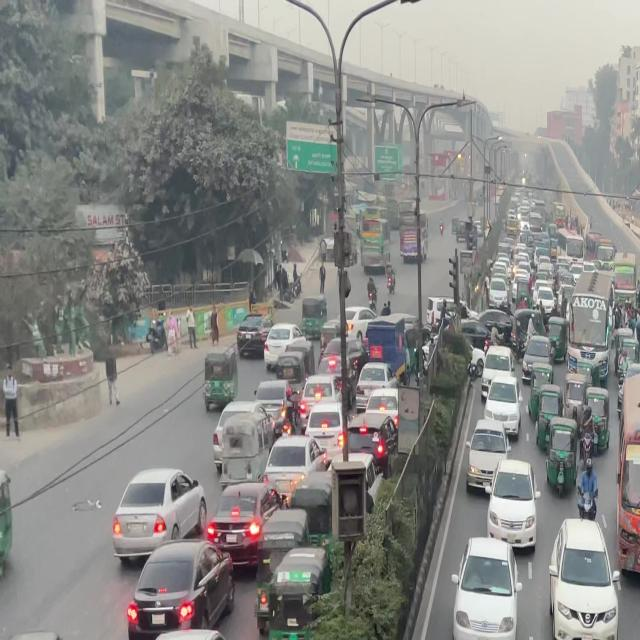bus: (611, 387, 640, 583), (570, 295, 615, 367), (202, 345, 238, 415)
car: (127, 543, 232, 640), (109, 466, 208, 564), (549, 517, 623, 640), (451, 539, 521, 640), (484, 466, 539, 551), (481, 368, 528, 457), (466, 428, 511, 492), (118, 627, 244, 640), (238, 326, 270, 358)
rickshaw: (260, 515, 331, 640), (540, 415, 578, 508), (1, 636, 74, 640)
